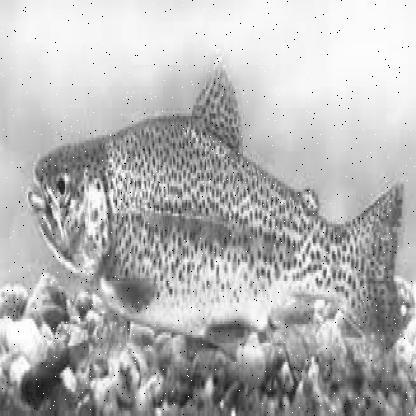fish: (26, 65, 400, 356)
